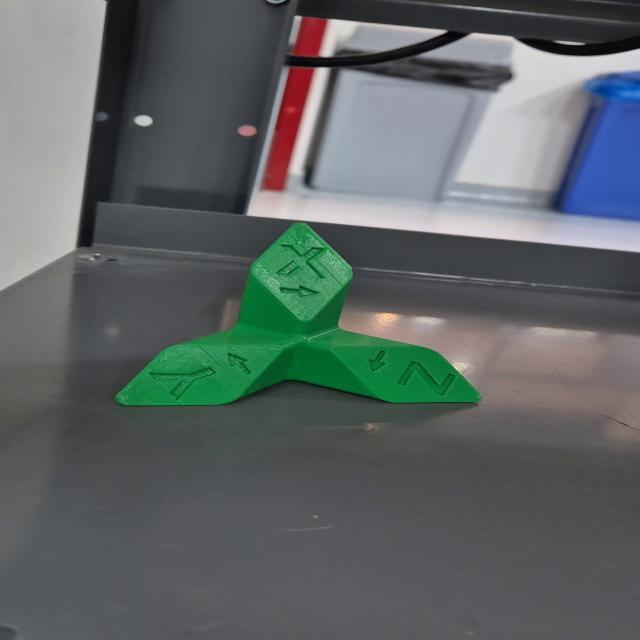eje: (108, 216, 494, 414)
